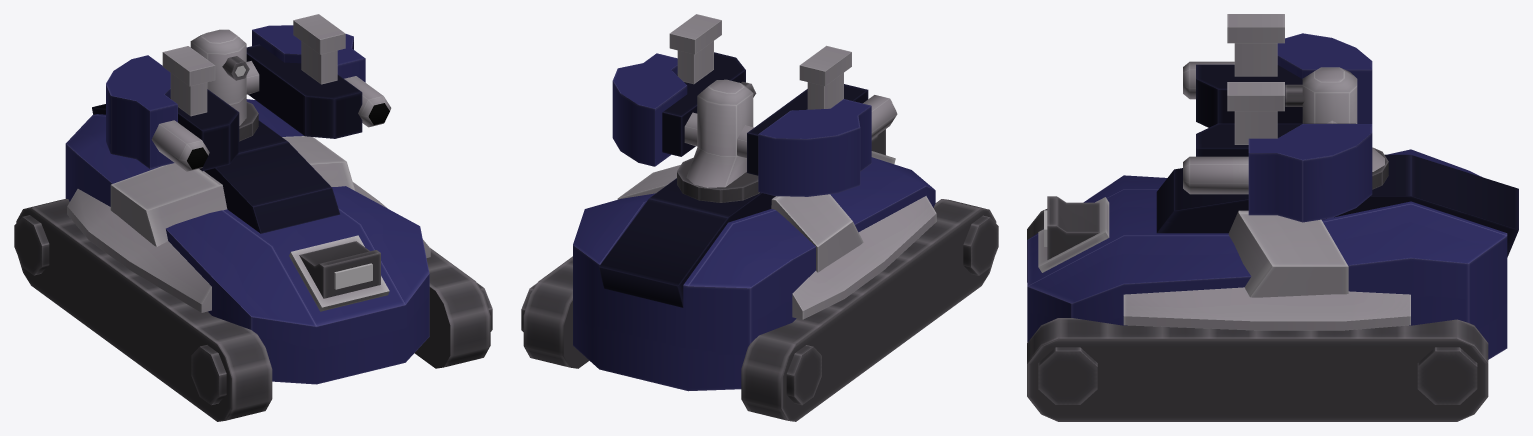
File: unit_Tank_Missile_Atreus_B.FBX
3 renders of one model, left to right at view 1: azimuth 30°, elevation 25°; view 2: azimuth 150°, elevation 25°; view 3: azimuth 270°, elevation 25°, orthographic. The views are drawn at different scales.
Visible parts, largest first — view 1: struct_Tank_Missile_Atreus_B_Body, struct_Tank_Missile_Atreus_B_Weapon, struct_Tank_Missile_Atreus_B_Mount; view 2: struct_Tank_Missile_Atreus_B_Body, struct_Tank_Missile_Atreus_B_Weapon, struct_Tank_Missile_Atreus_B_Mount; view 3: struct_Tank_Missile_Atreus_B_Body, struct_Tank_Missile_Atreus_B_Weapon, struct_Tank_Missile_Atreus_B_Mount.
Part boxes in pixels (x1,y1,x2,y2): struct_Tank_Missile_Atreus_B_Body: [14, 99, 492, 421]; struct_Tank_Missile_Atreus_B_Weapon: [106, 14, 391, 171]; struct_Tank_Missile_Atreus_B_Mount: [190, 29, 258, 141]; struct_Tank_Missile_Atreus_B_Body: [521, 129, 998, 421]; struct_Tank_Missile_Atreus_B_Weapon: [612, 14, 897, 196]; struct_Tank_Missile_Atreus_B_Mount: [677, 79, 759, 202]; struct_Tank_Missile_Atreus_B_Body: [1027, 149, 1518, 421]; struct_Tank_Missile_Atreus_B_Weapon: [1183, 14, 1372, 222]; struct_Tank_Missile_Atreus_B_Mount: [1285, 67, 1388, 189].
Size of the model in its own units: 315 by 308 by 459.
